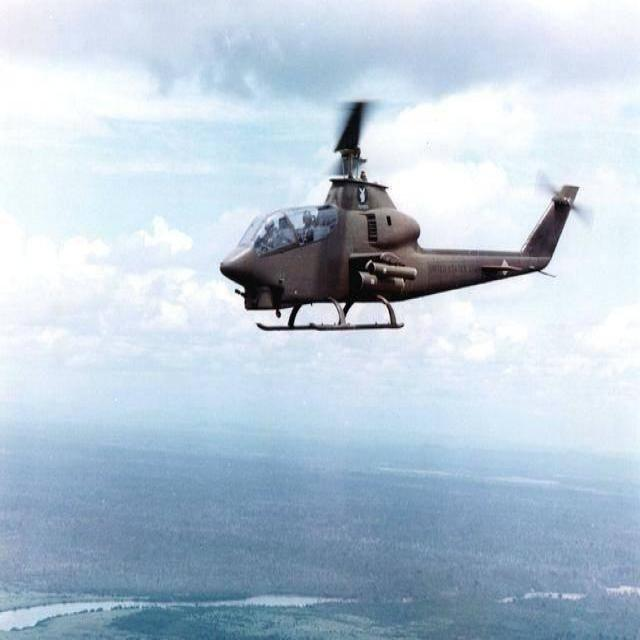MIL_HELO: (192, 95, 608, 367)
